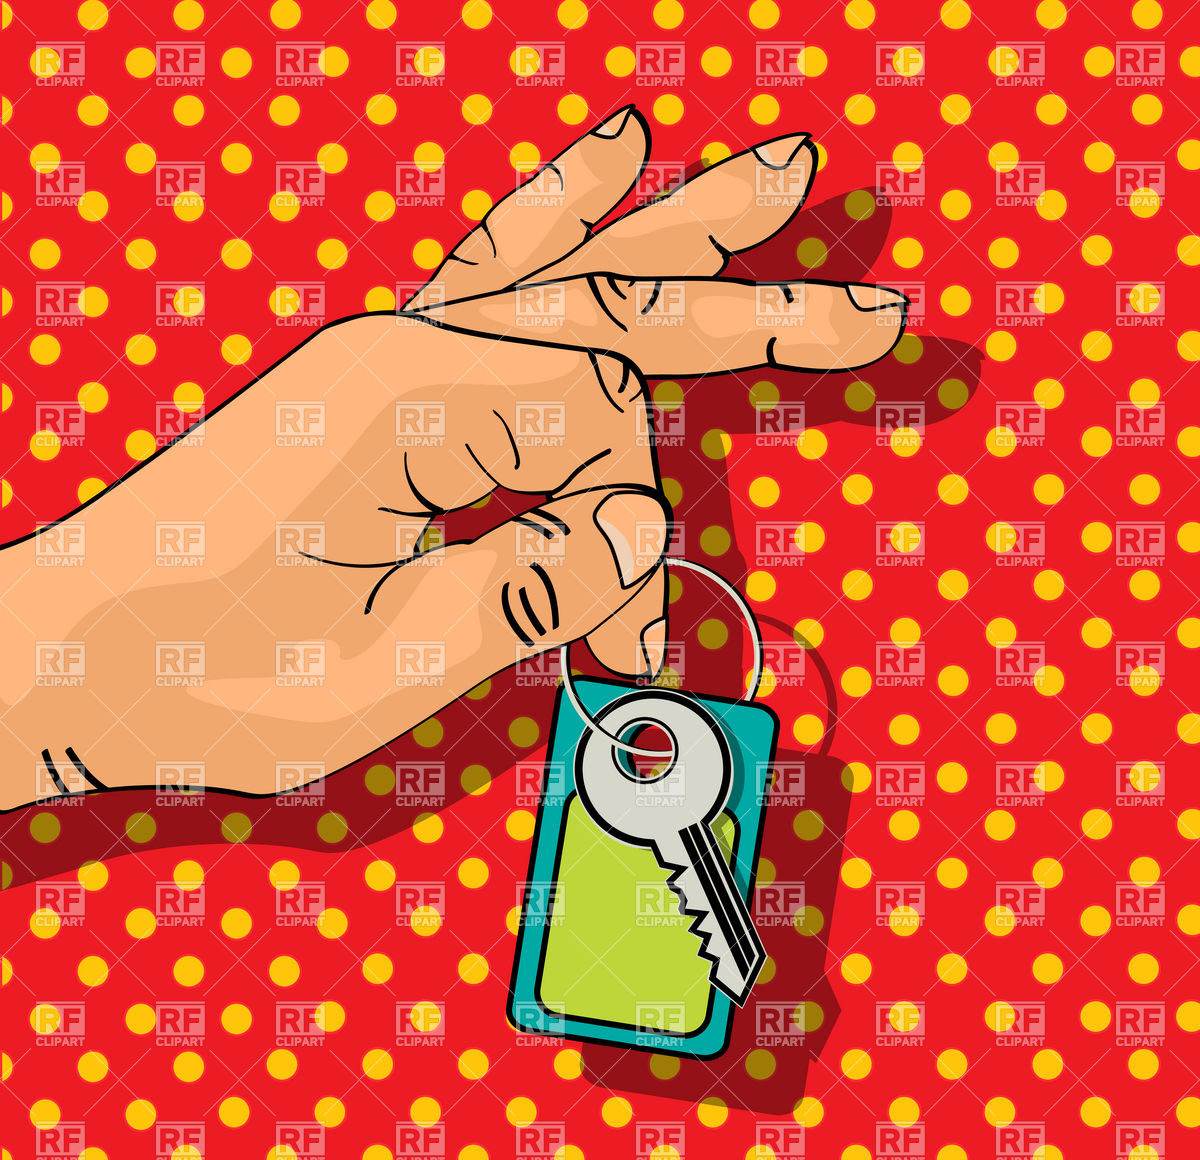keys: (513, 605, 796, 1070)
